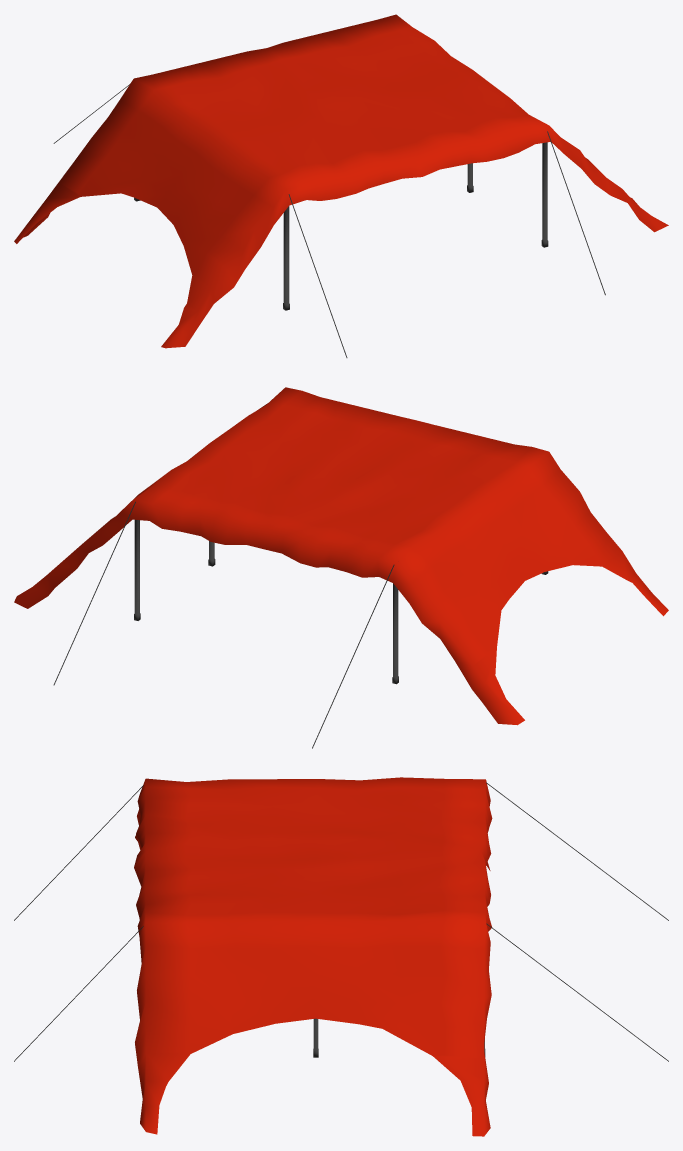
Rendered from CamoNet2.fbx.
3 views of the same model, one above another, from view 1: azimuth 30°, elevation 25°; view 2: azimuth 150°, elevation 25°; view 3: azimuth 270°, elevation 25° (orthographic). The views are drawn at different scales.
Visible parts, largest first — view 1: Poles; view 2: Poles; view 3: Poles.
Part boxes in pixels (x1,y1,x2,y2): Poles: (14,14,668,357); Poles: (14,387,668,748); Poles: (14,777,668,1136).
Size of the model in its own units: 11.81 by 3.01 by 11.79.
